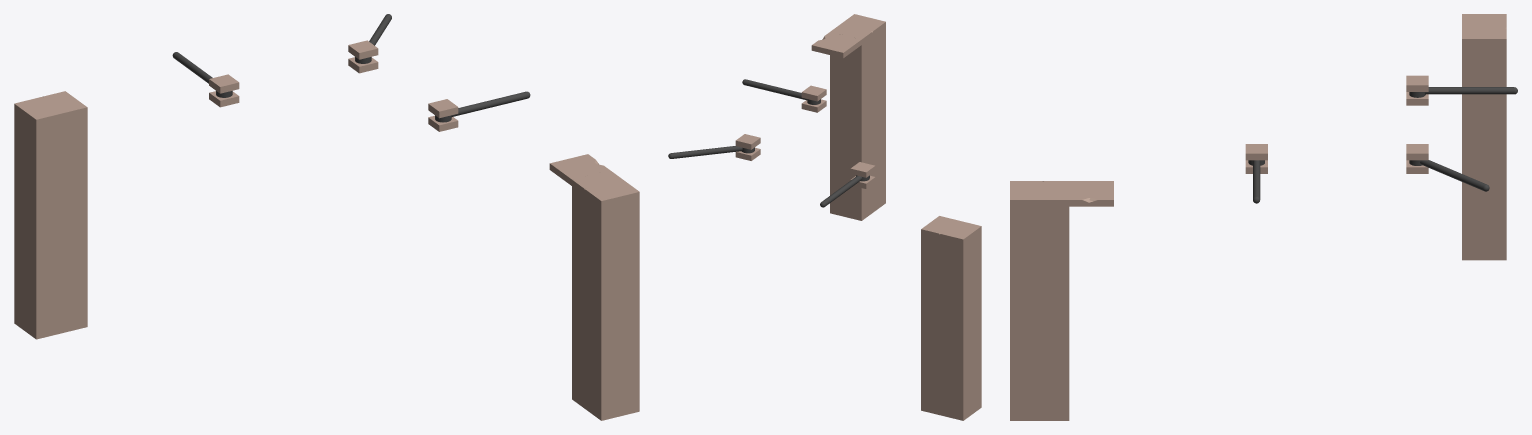
The model's file is Nivel6.fbx.
3 views of the same model, side by side, from view 1: azimuth 30°, elevation 25°; view 2: azimuth 150°, elevation 25°; view 3: azimuth 270°, elevation 25° (orthographic). The views are drawn at different scales.
Visible parts, largest first — view 1: Plataforma-M.006, Plataforma-M.005, Cubo.019, Cubo.020, Cubo.022, Cubo.021, Círculo; view 2: Plataforma-M.006, Plataforma-M.005, Cubo.019, Círculo.002, Cubo.021, Cubo.022, Círculo, Cubo.020, Círculo.001; view 3: Plataforma-M.005, Plataforma-M.006, Cubo.019, Círculo.001, Círculo.002, Cubo.020, Cubo.022, Cubo.021.
Part boxes in pixels (x1,y1,x2,y2): Plataforma-M.006: (14,91,87,339); Plataforma-M.005: (572,170,639,420); Cubo.019: (549,154,609,185); Cubo.020: (209,74,239,107); Cubo.022: (348,40,378,73); Cubo.021: (428,99,458,131); Círculo: (435,91,530,122); Plataforma-M.006: (921,216,981,420); Plataforma-M.005: (830,14,885,220); Cubo.019: (811,32,861,58); Círculo.002: (668,146,754,158); Cubo.021: (801,85,826,112); Cubo.022: (735,134,760,160); Círculo: (742,79,820,104); Cubo.020: (850,162,875,188); Círculo.001: (820,175,869,207); Plataforma-M.005: (1010,181,1069,420); Plataforma-M.006: (1462,14,1506,260); Cubo.019: (1069,181,1113,206); Círculo.001: (1409,87,1517,97); Círculo.002: (1409,160,1489,191); Cubo.020: (1406,75,1428,105); Cubo.022: (1406,144,1428,173); Cubo.021: (1245,144,1267,173).
Bounding box in the file's own units: 12398 × 7100 × 13853.
